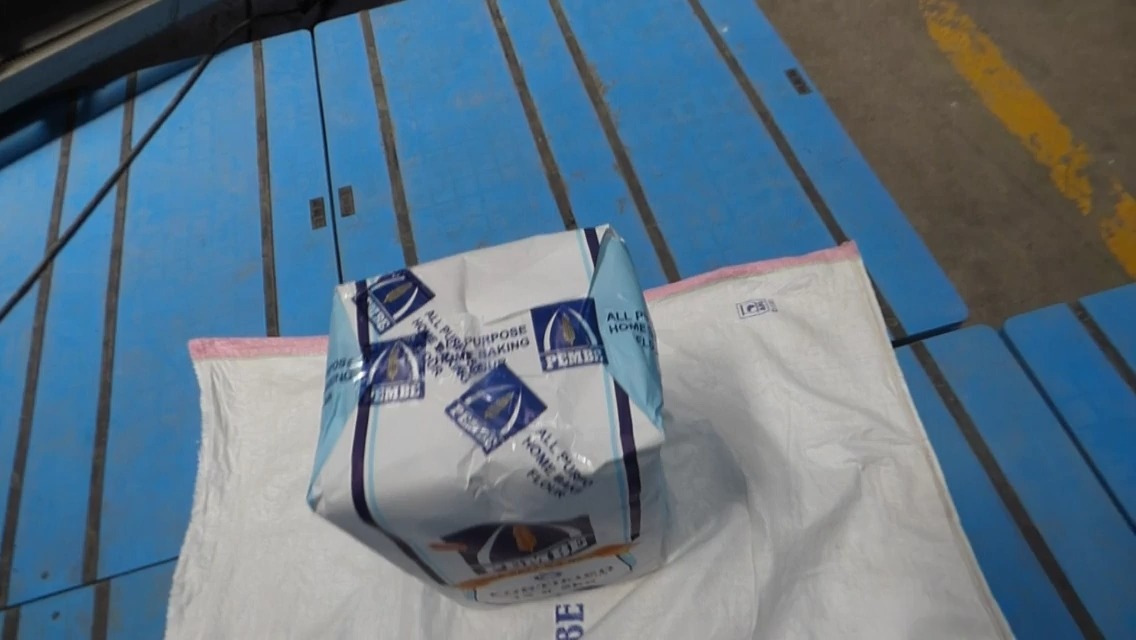wheat_flour_blue_label: (309, 229, 659, 603)
